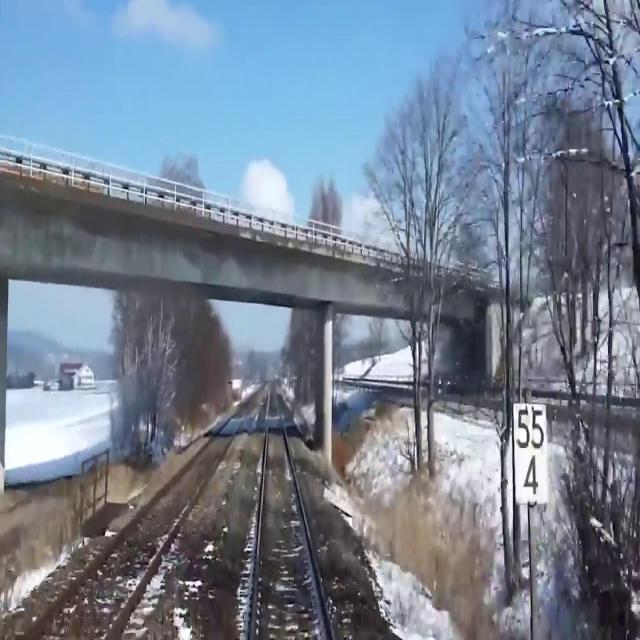rail-track: (32, 398, 254, 639), (255, 381, 332, 639)
